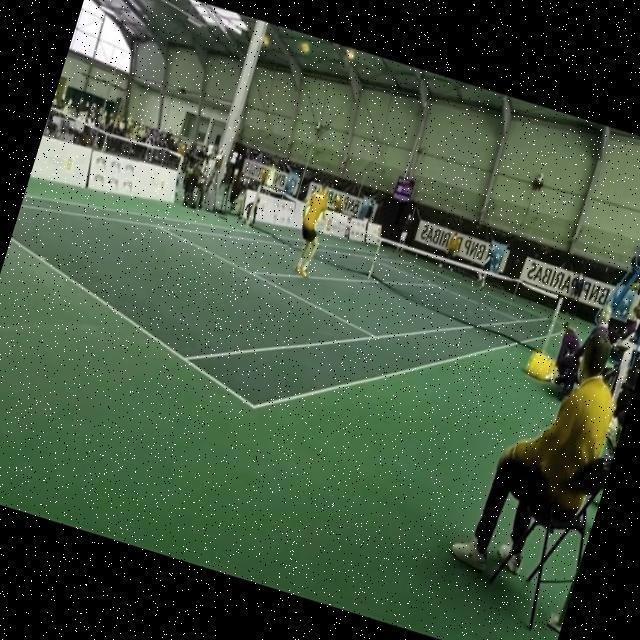court: (0, 147, 580, 492)
net: (232, 182, 570, 360)
player: (282, 173, 338, 280)
